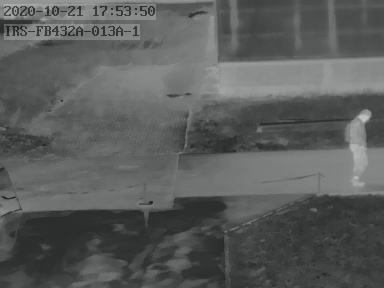person: (345, 107, 372, 186)
